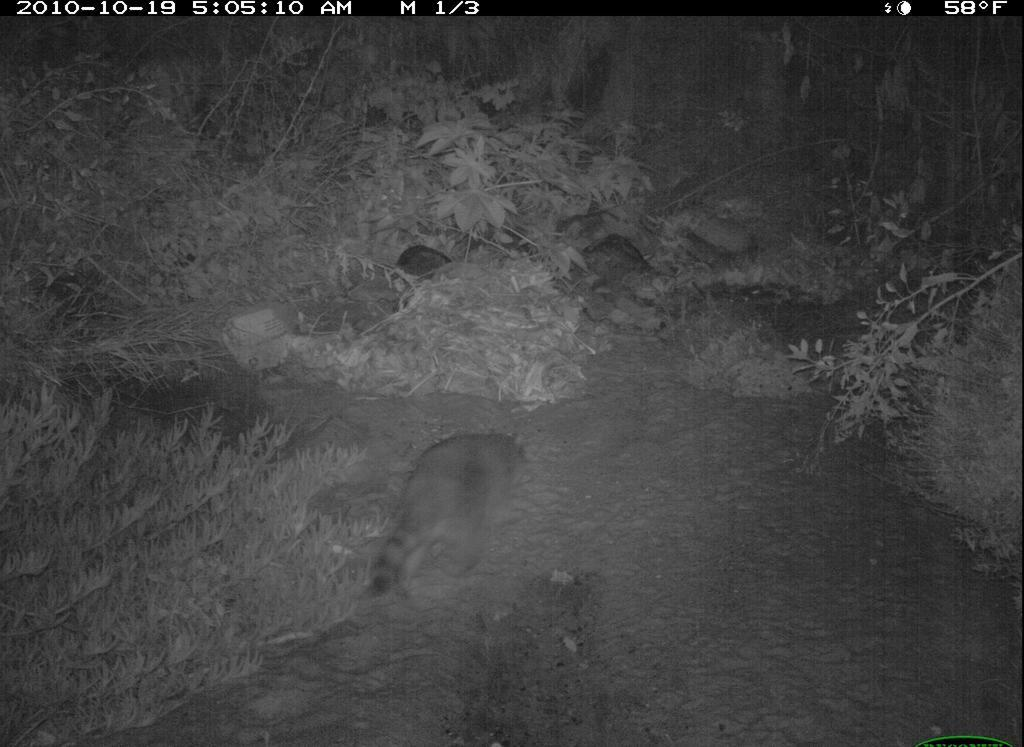raccoon: (356, 401, 556, 607)
